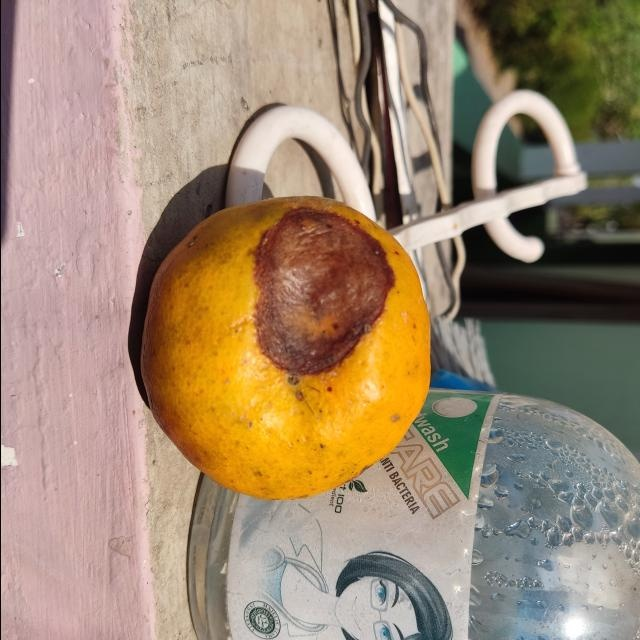agrume: (145, 192, 437, 508)
